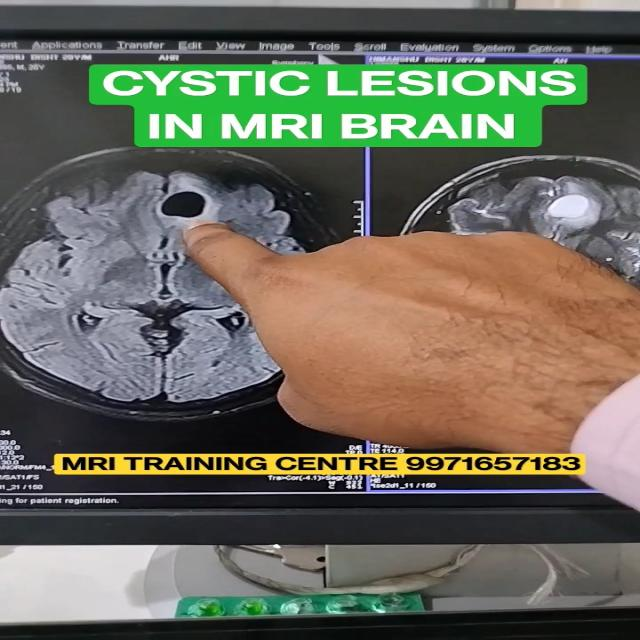tumor: (137, 176, 253, 246)
